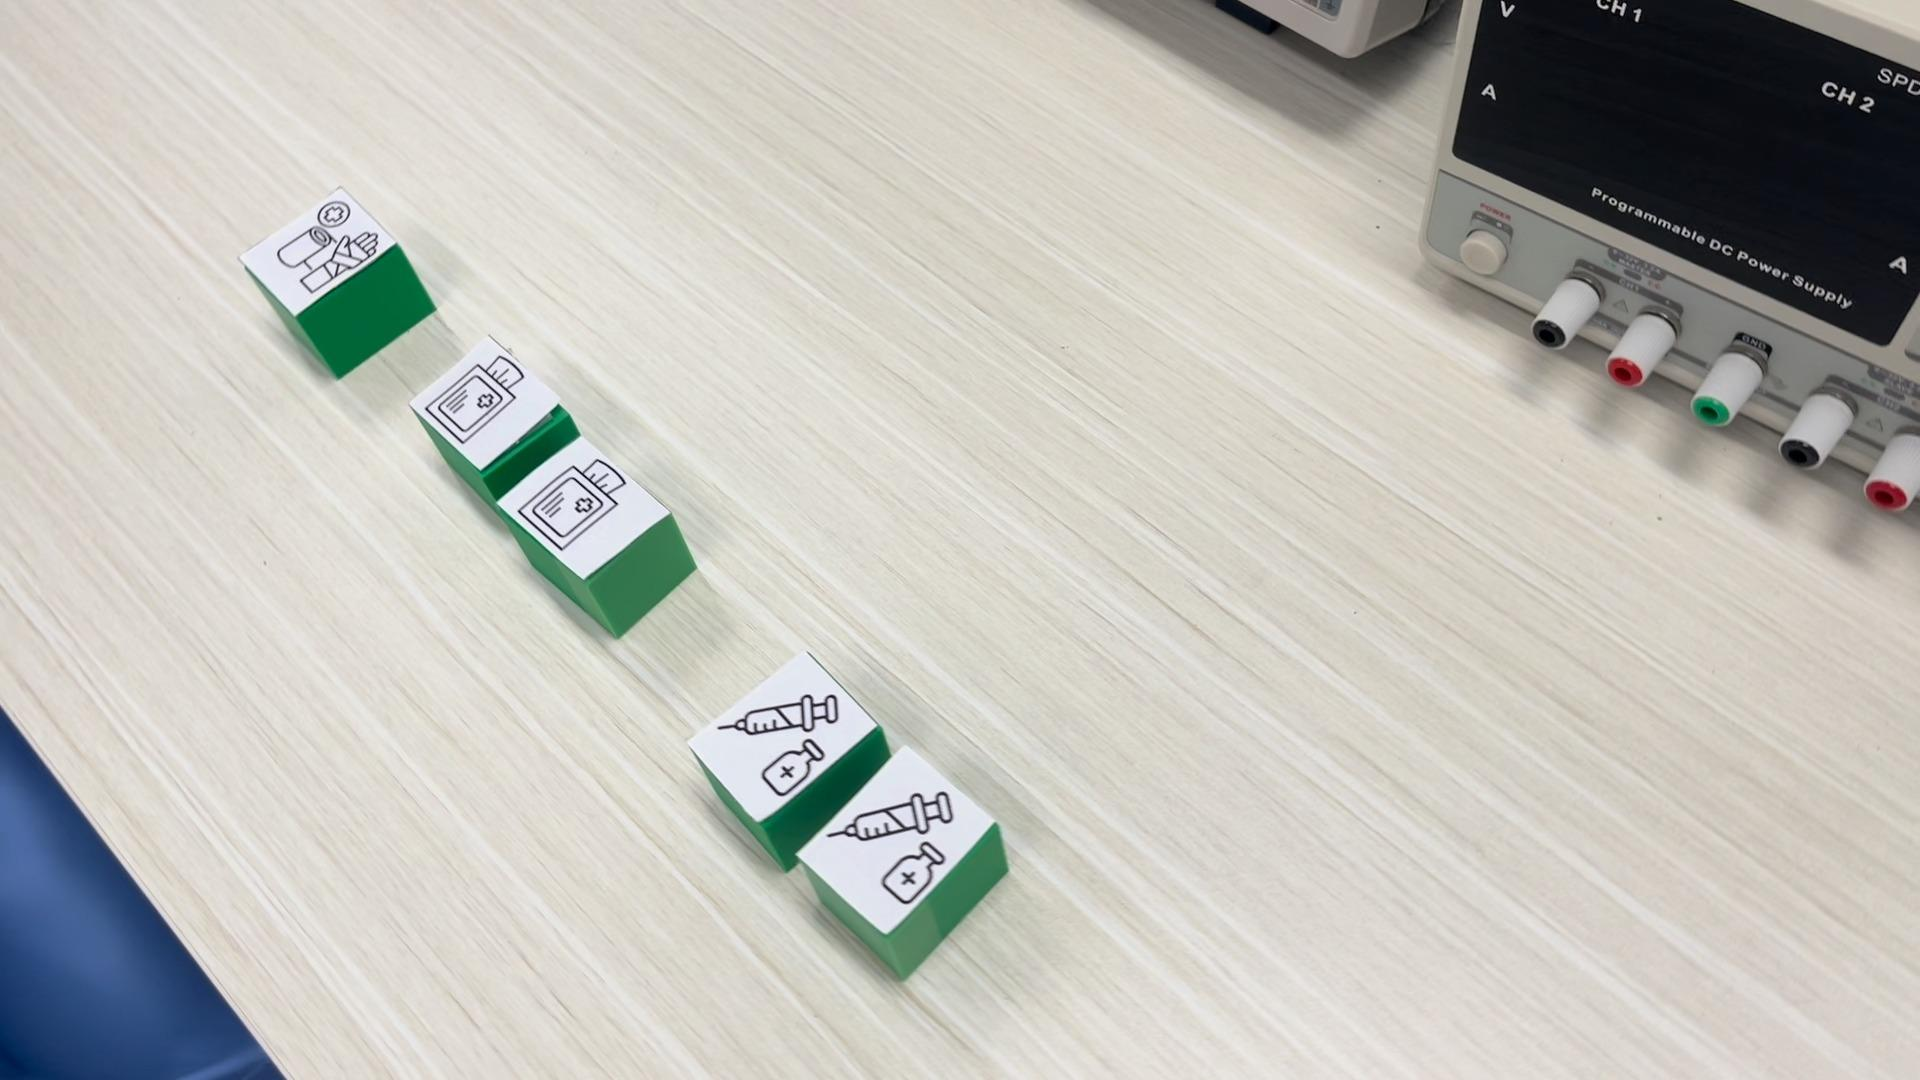Bandages: (235, 185, 436, 377)
Gauze: (492, 436, 699, 636), (410, 335, 574, 477)
antiseptic cream: (800, 745, 1007, 982), (682, 649, 890, 869)
